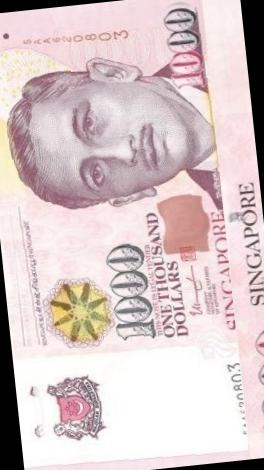1000SingaporeDollar: (0, 0, 249, 470)
